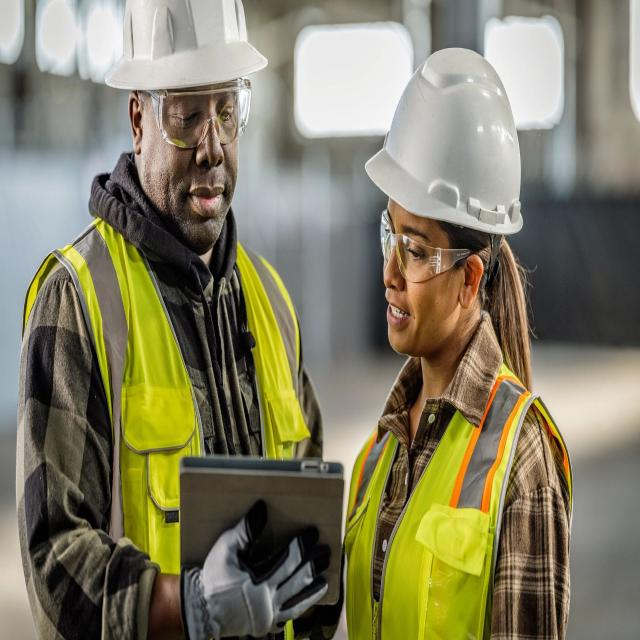goggles: (138, 72, 257, 150), (371, 209, 477, 288)
helmet: (361, 45, 525, 241), (99, 0, 273, 96)
vest: (20, 211, 309, 640), (341, 354, 573, 640)
